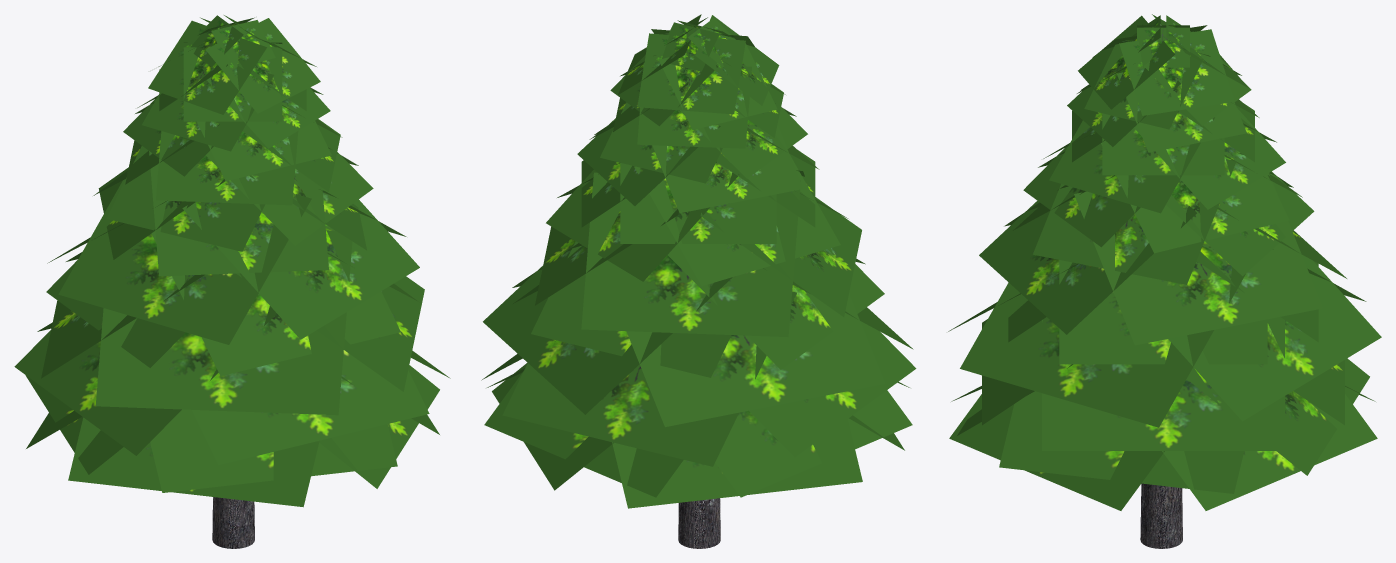
The model's file is Tree02.fbx.
3 renders of one model, left to right at view 1: azimuth 30°, elevation 25°; view 2: azimuth 150°, elevation 25°; view 3: azimuth 270°, elevation 25°, orthographic.
Visible parts, largest first — view 1: Imported_OBJ_Object; view 2: Imported_OBJ_Object; view 3: Imported_OBJ_Object.
Boxes of the visible parts, box(x1,y1,x2,y2) form: Imported_OBJ_Object: box(14, 15, 450, 548); Imported_OBJ_Object: box(481, 14, 916, 548); Imported_OBJ_Object: box(948, 14, 1381, 548).
Size of the model in its own units: 1966 by 2550 by 1966.
